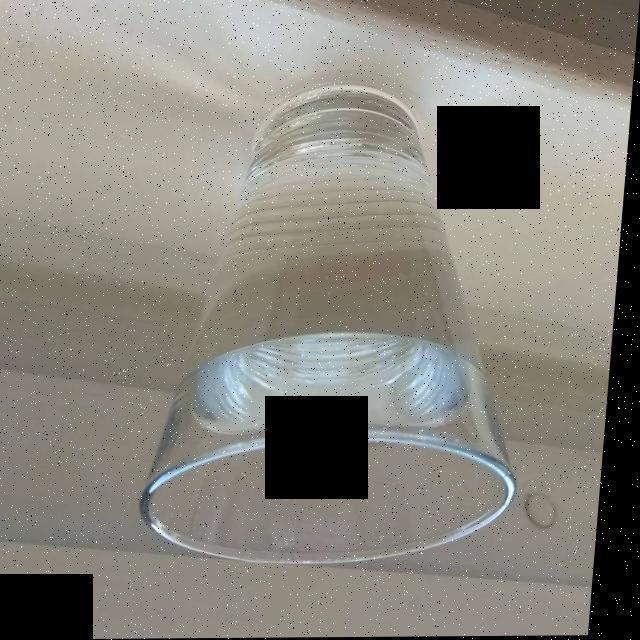water: (187, 103, 492, 493)
